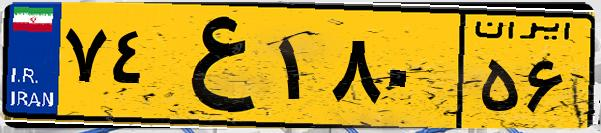0: (385, 28, 445, 110)
1: (270, 28, 330, 110)
4: (110, 28, 158, 98)
5: (475, 38, 525, 113)
6: (525, 38, 570, 115)
7: (57, 26, 110, 100)
8: (330, 28, 385, 110)
ع: (158, 12, 270, 120)
